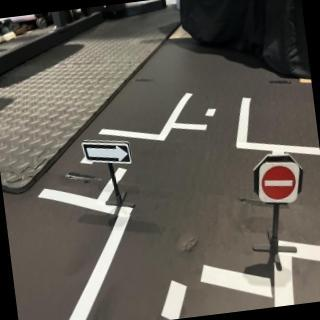sign_noentry: (254, 159, 309, 210)
sign_oneway_right: (81, 134, 136, 171)
